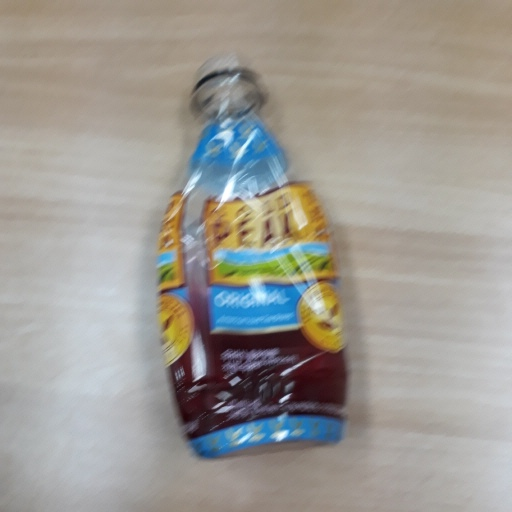Plastic_0: (146, 49, 353, 465)
